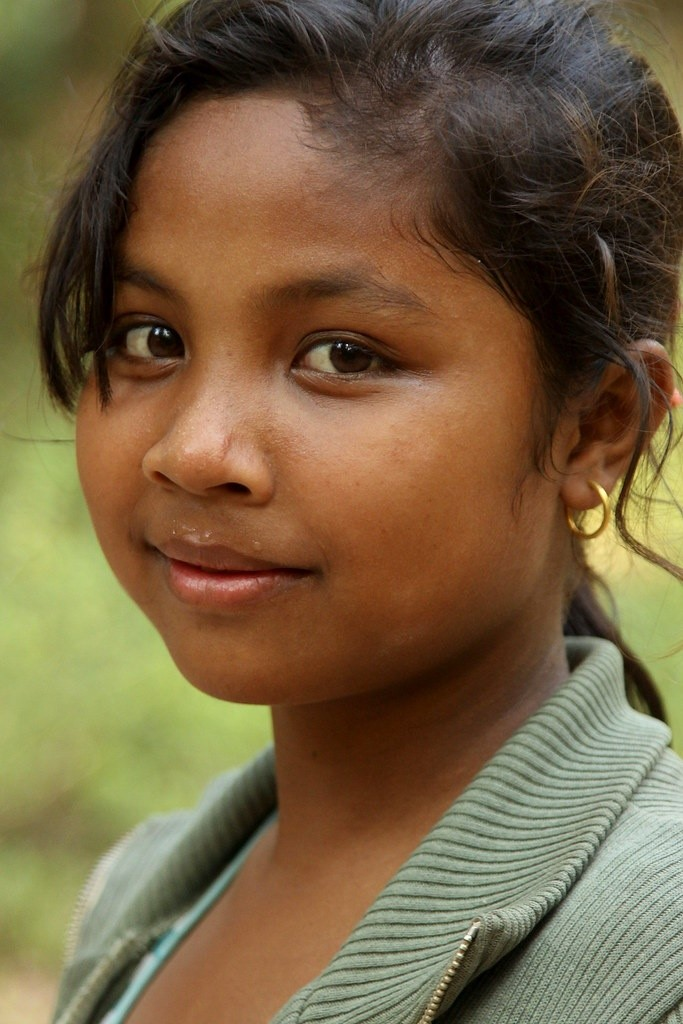face_no_mask: (68, 5, 673, 702)
